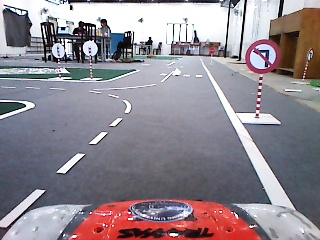ban: (242, 37, 284, 77)
